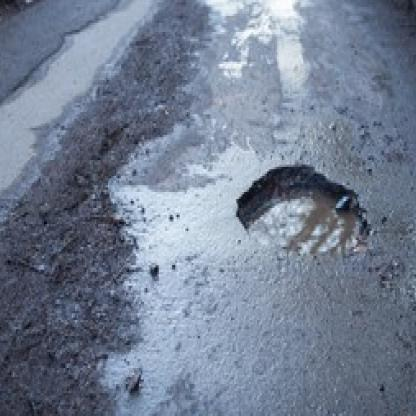pothole: (238, 162, 374, 254)
